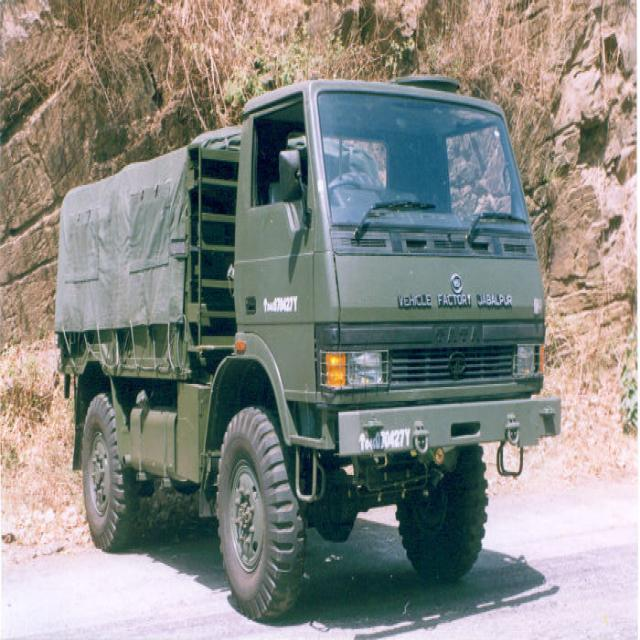truck: (55, 76, 560, 620)
